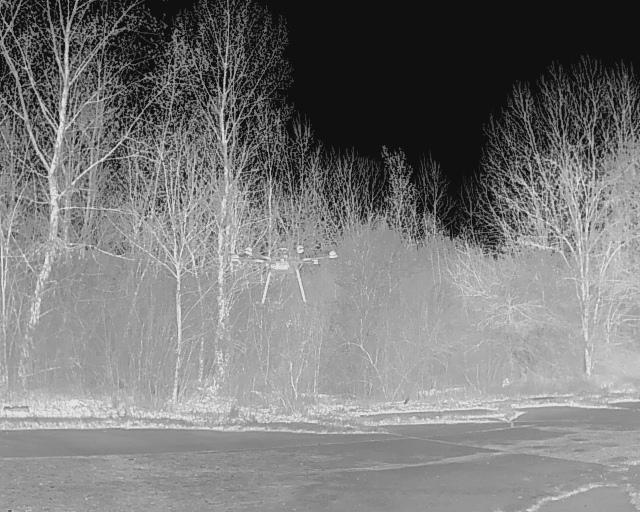drone: (212, 230, 350, 312)
